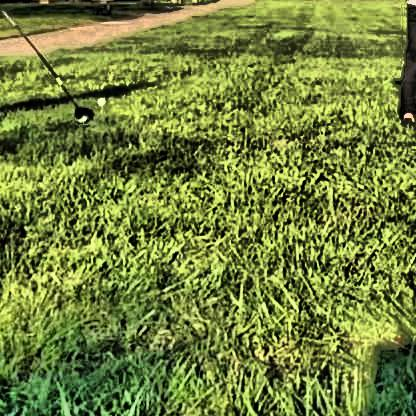golfball: (94, 94, 104, 104)
